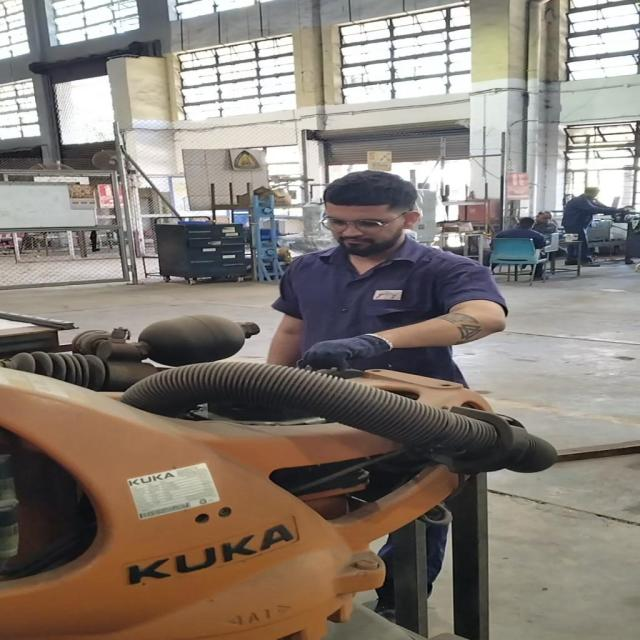Gloves-Detection: (299, 330, 384, 372)
